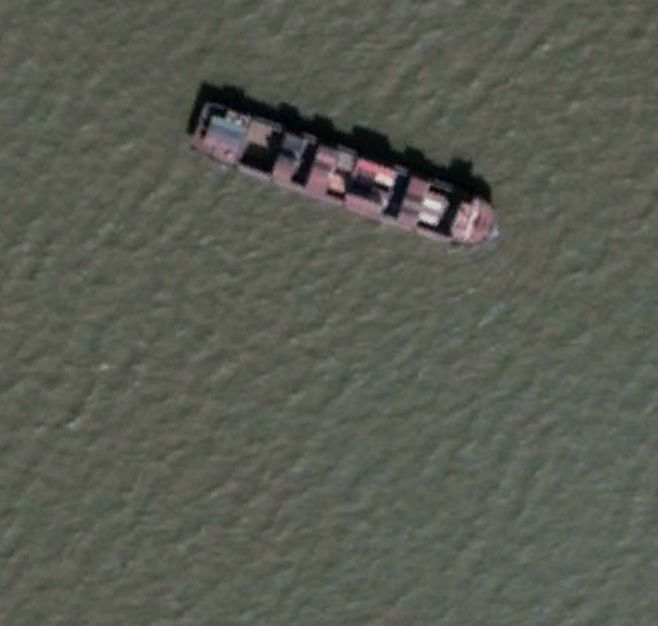boat: (186, 93, 499, 249)
